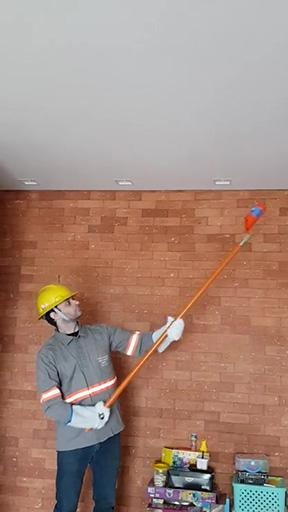Detector_Tensao_Contato: (86, 235, 250, 431), (242, 196, 270, 235)
